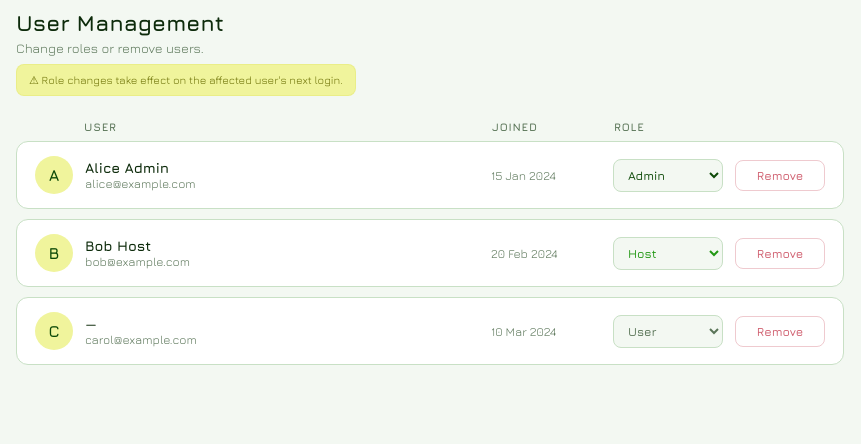
Test case: AdminPanel — role change › shows error when role PATCH fails
Expected: the text "Bob Host" is shown, [85,237,151,254]
Select "Admin" in the dropdown next to "20 Feb 2024": [668, 253] box [613,236,723,270]
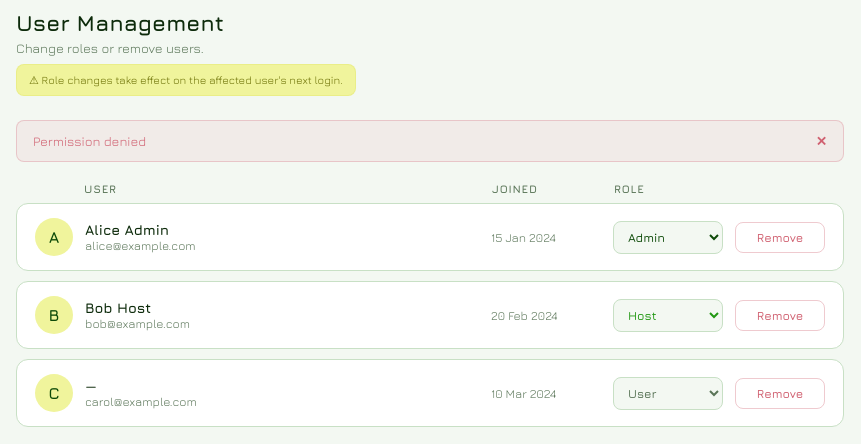
Expected: the text "Permission denied" is shown, [33,133,146,149]
